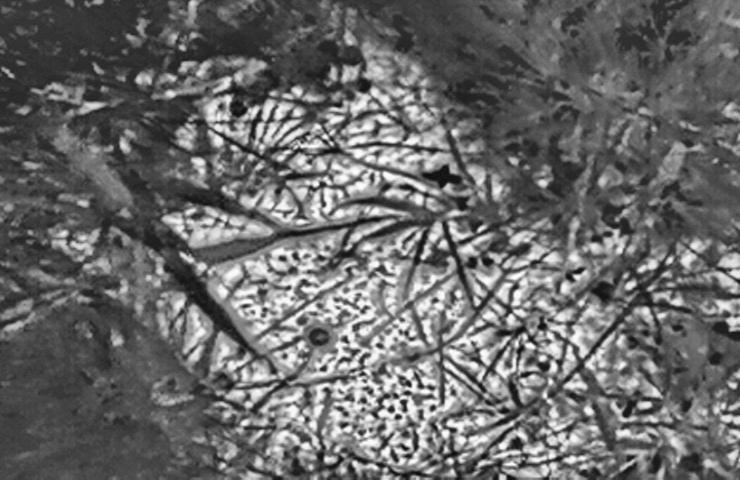landmines: (62, 10, 663, 480)
